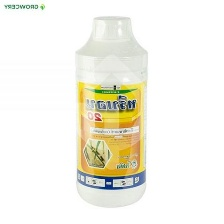insecticide: (72, 8, 152, 210)
